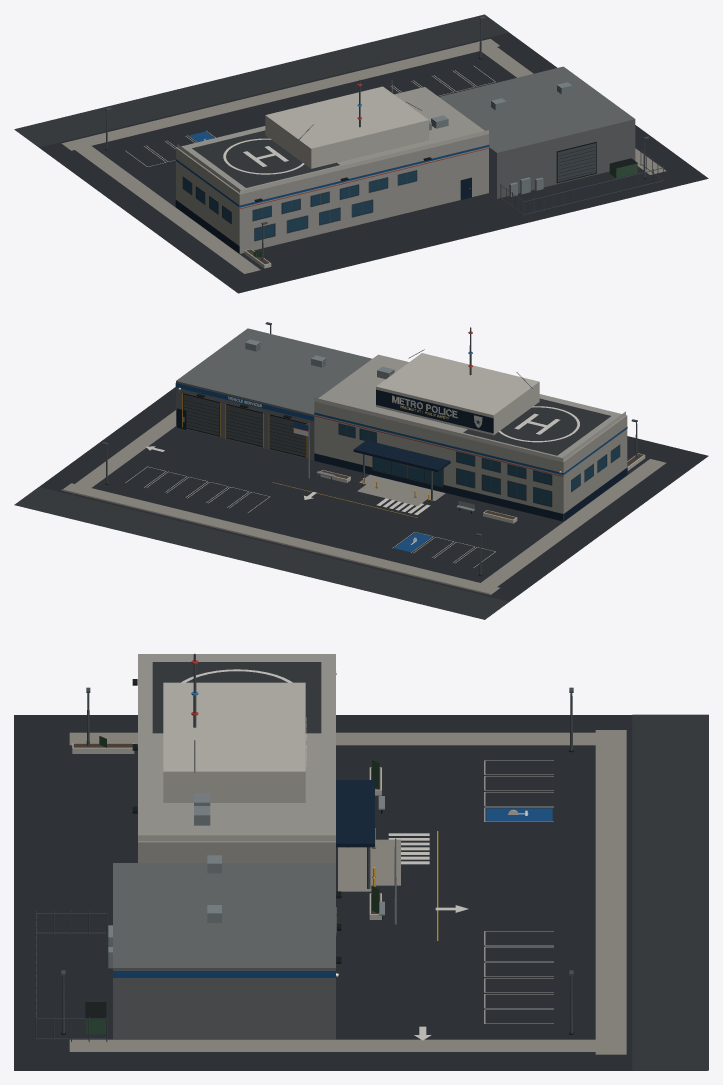
Rendered from PoliceStation_Mobile_Unity.glb.
3 views of the same model, one above another, from view 1: azimuth 30°, elevation 25°; view 2: azimuth 150°, elevation 25°; view 3: azimuth 270°, elevation 25° (orthographic). The views are drawn at different scales.
Parts seen in each view (by area): view 1: BATCH_Surface_LOD0, BATCH_Metal_LOD0, BATCH_Glass_LOD0; view 2: BATCH_Surface_LOD0, BATCH_Metal_LOD0, BATCH_Glass_LOD0; view 3: BATCH_Surface_LOD0, BATCH_Metal_LOD0.
Part boxes in pixels (x1,y1,x2,y2): BATCH_Surface_LOD0: [14, 14, 708, 293]; BATCH_Metal_LOD0: [105, 16, 663, 260]; BATCH_Glass_LOD0: [183, 171, 416, 240]; BATCH_Surface_LOD0: [14, 328, 708, 619]; BATCH_Metal_LOD0: [102, 322, 637, 575]; BATCH_Glass_LOD0: [339, 424, 619, 506]; BATCH_Surface_LOD0: [14, 654, 708, 1070]; BATCH_Metal_LOD0: [35, 653, 573, 1041].
Bounding box in the file's own units: 68 × 17.88 × 56.1.
